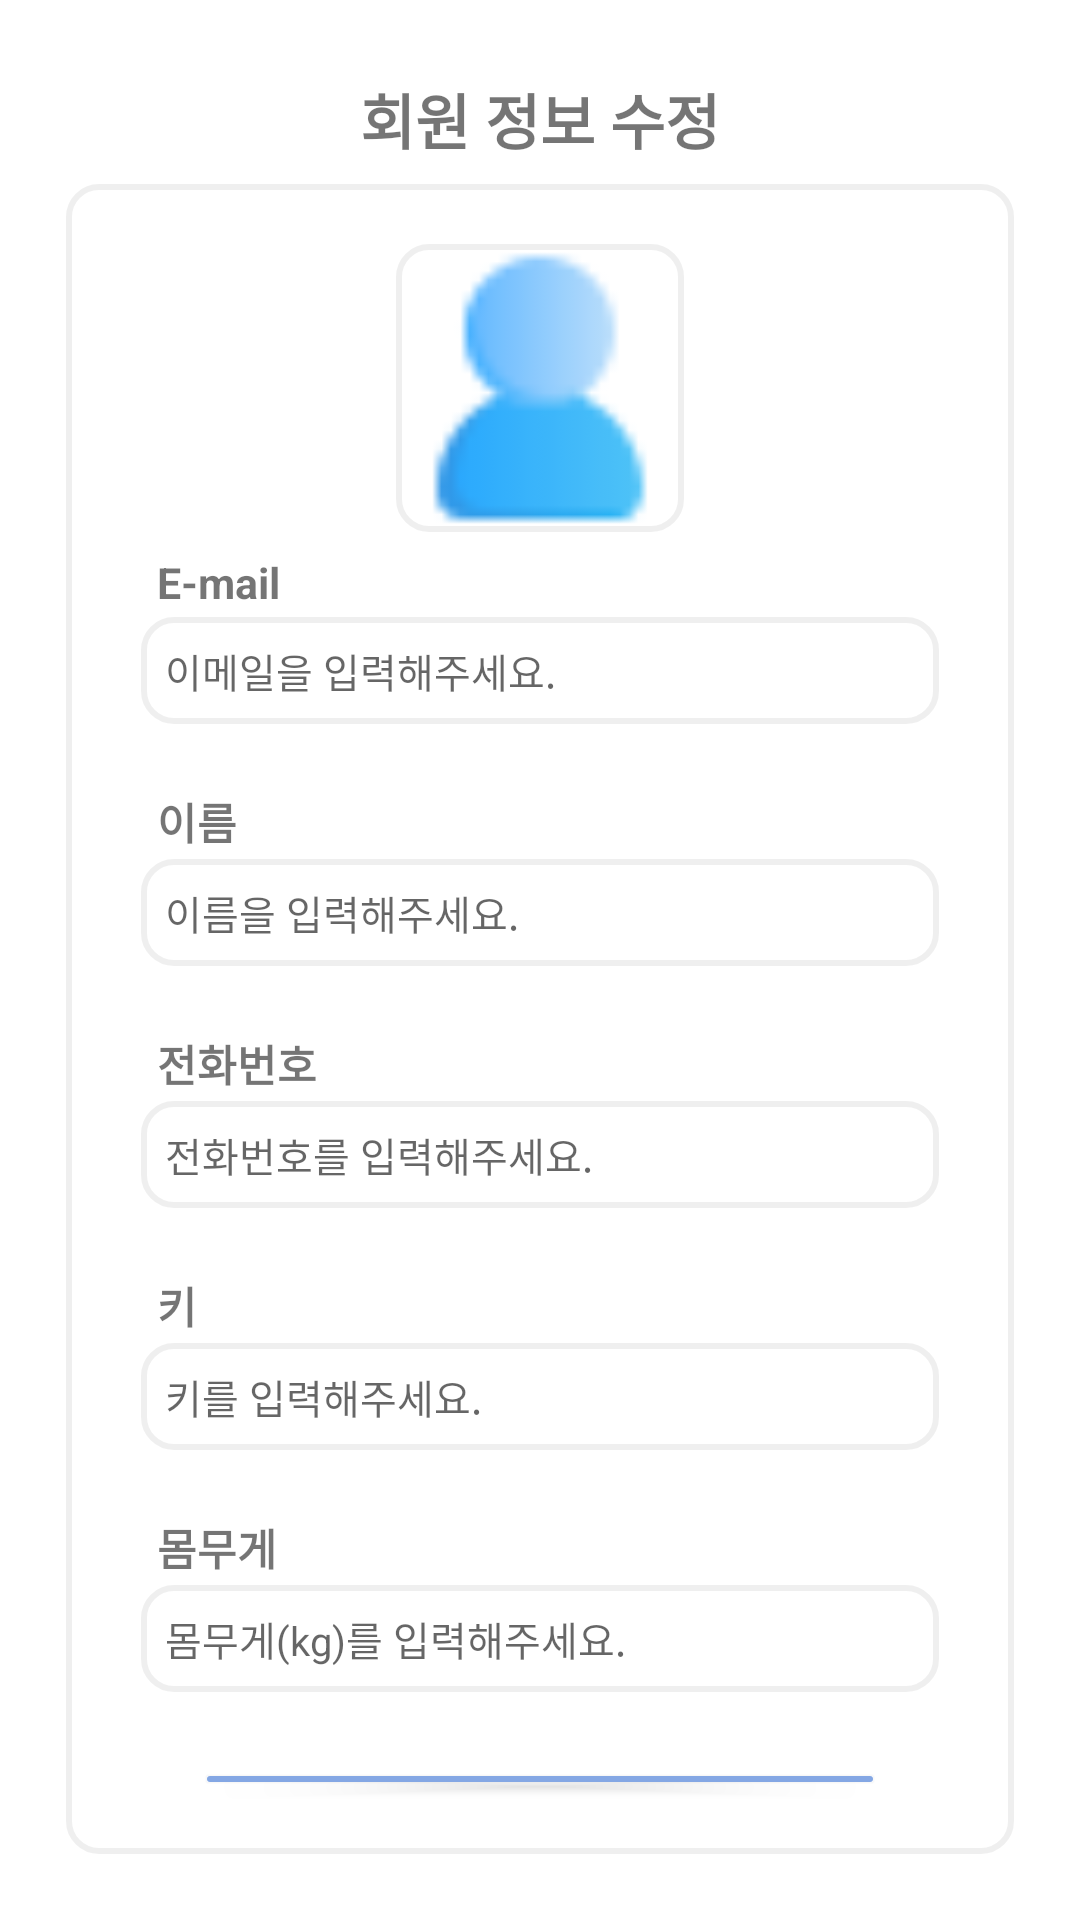

Icons on this 1080px×1920px Android screen, each with its box as (x1, y1, x2, y2):
user: (433, 254, 646, 523)
